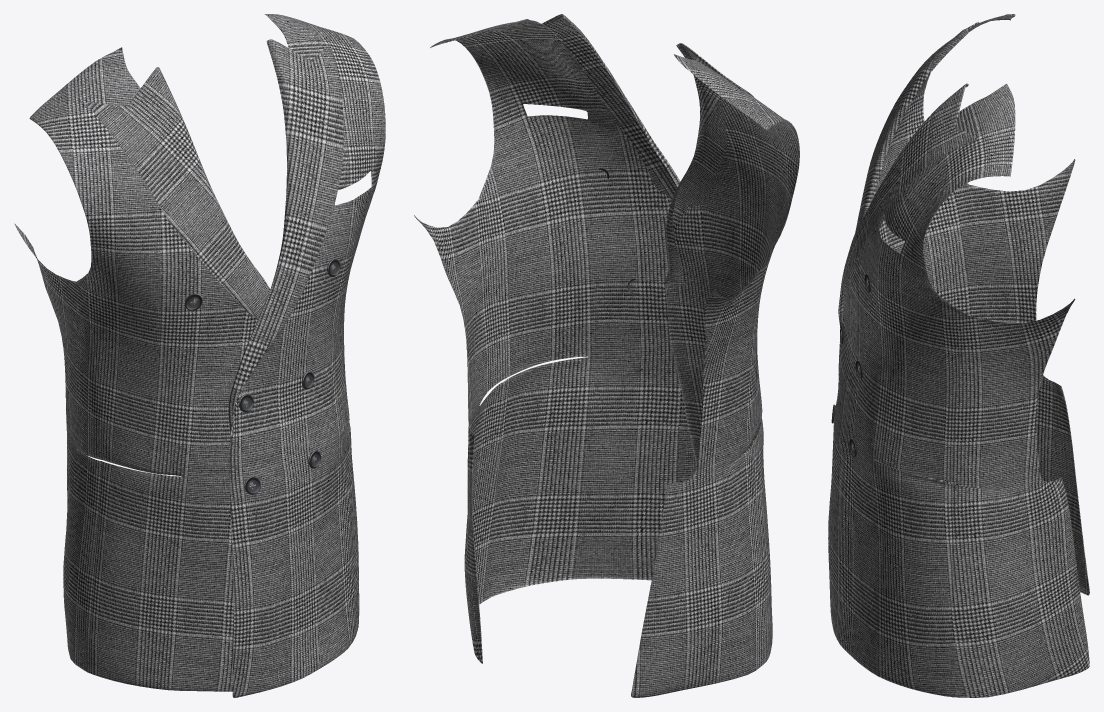
File: peakdoublebreasted.glb
The picture shows the model from 3 angles, left to right: view 1: azimuth 30°, elevation 25°; view 2: azimuth 150°, elevation 25°; view 3: azimuth 270°, elevation 25°; orthographic projection. The views are drawn at different scales.
Parts seen in each view (by area): view 1: peak_double_breasted_suit1, double_breasted_buttons; view 2: peak_double_breasted_suit1; view 3: peak_double_breasted_suit1, double_breasted_buttons.
Part boxes in pixels (x1,y1,x2,y2): peak_double_breasted_suit1: (14,14,385,697); double_breasted_buttons: (185,259,340,494); peak_double_breasted_suit1: (414,14,799,697); peak_double_breasted_suit1: (828,14,1089,697); double_breasted_buttons: (831,273,871,456).
Size of the model in its own units: 0.0585 by 0.1021 by 0.0414.
Materials: 3 (2 with a texture image).
